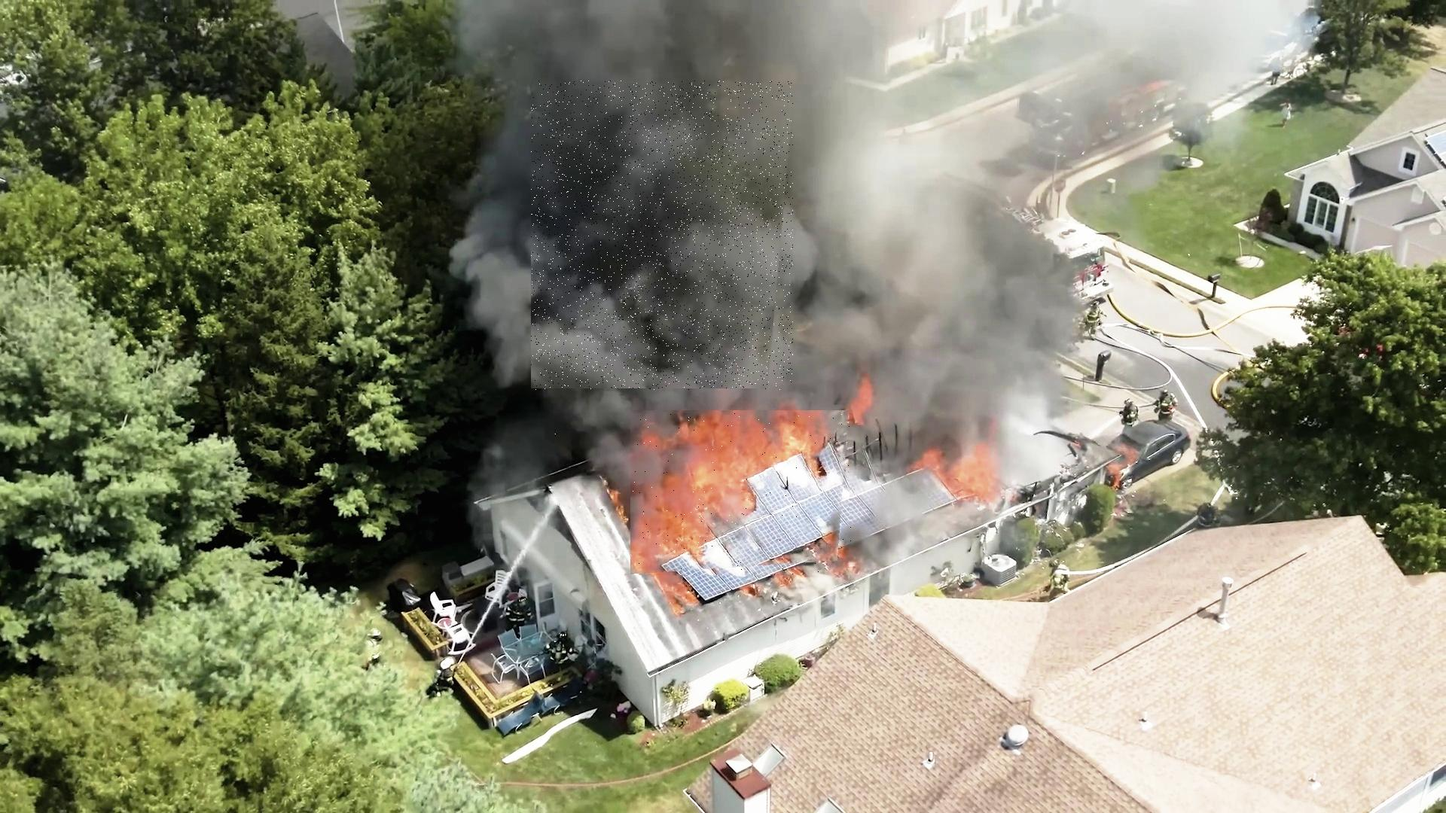fire: (631, 411, 852, 575)
smoke: (531, 81, 793, 390)
